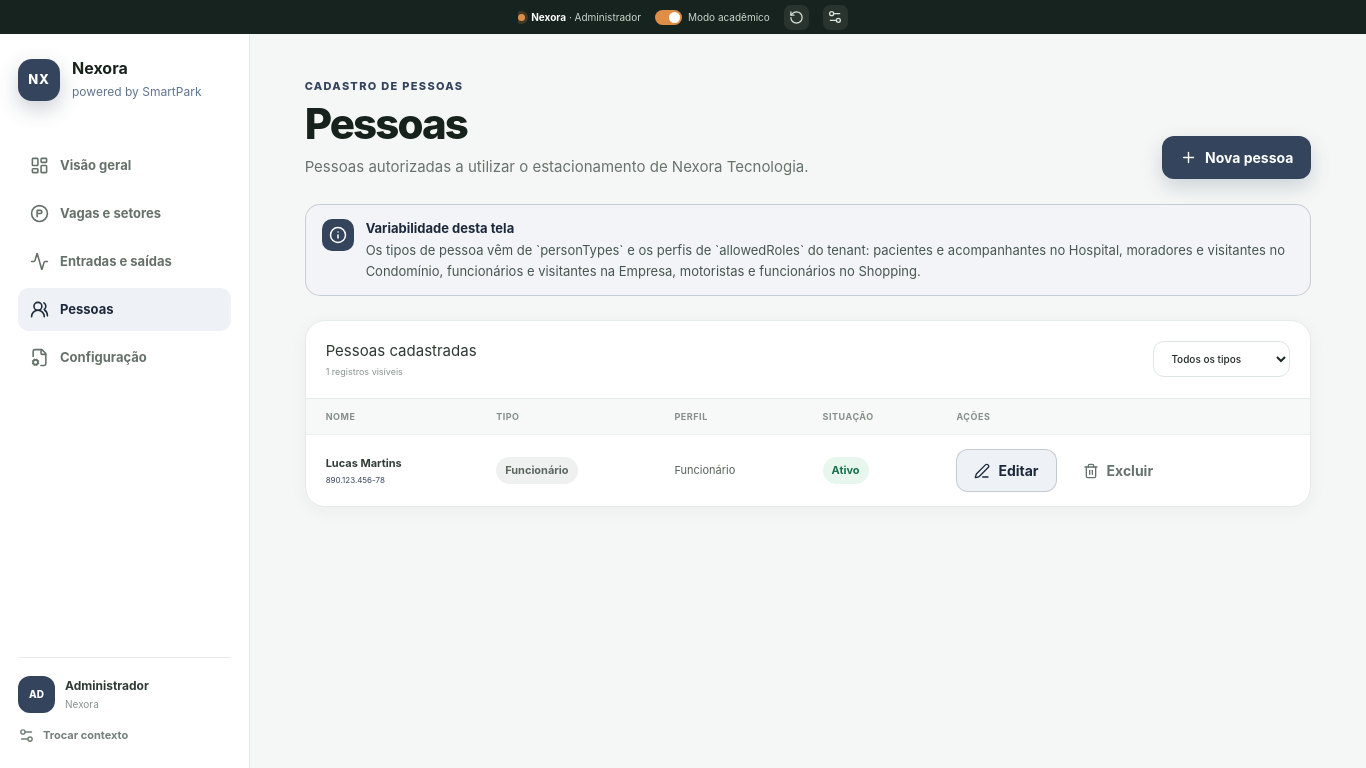
Test case: pessoas (usuários) › edita uma pessoa (inclusive a situação)
This screenshot has width=1366, height=768.
Click the button with aria-label "Editar Lucas Martins" at {"x": 1006, "y": 471}, box [956,449,1057,492]
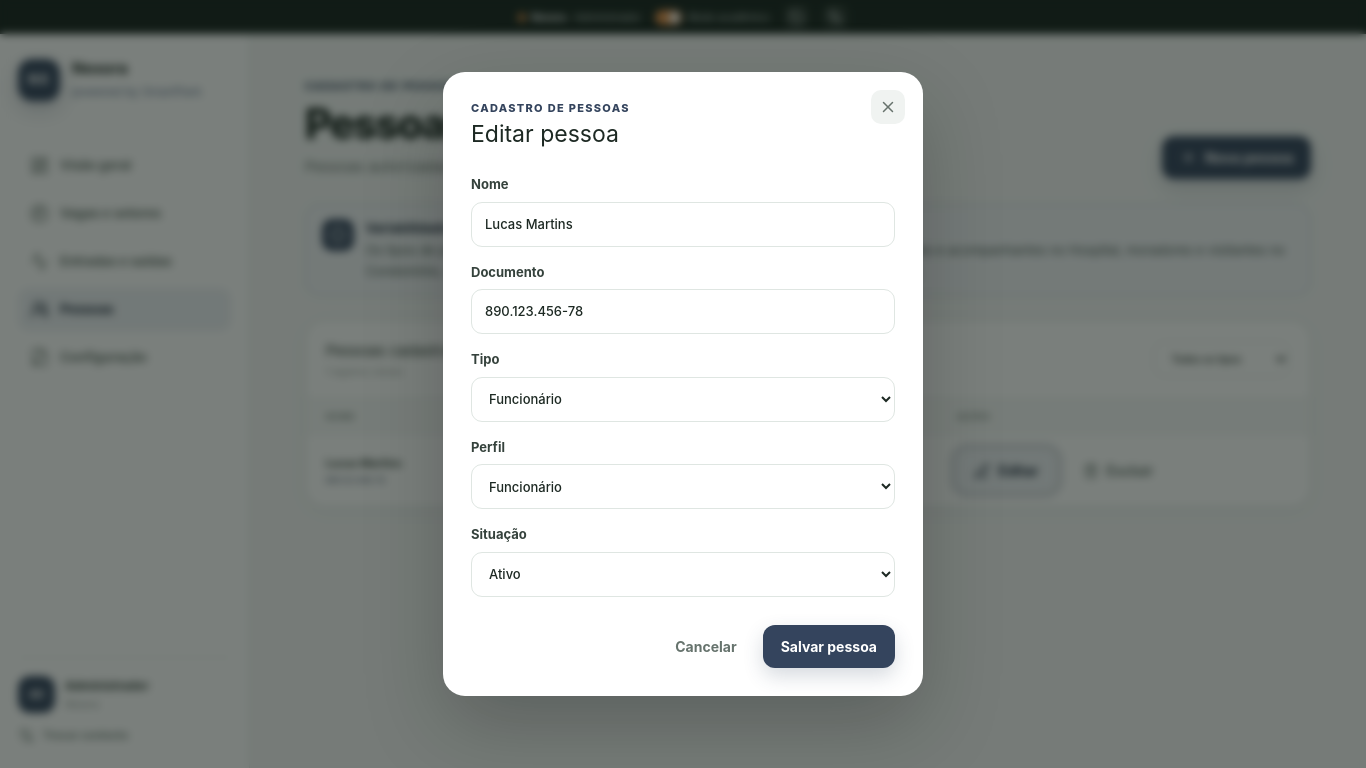
Select "Inativo" in the dropdown labelled "Situação" at {"x": 683, "y": 574}, box [471,552,895,597]
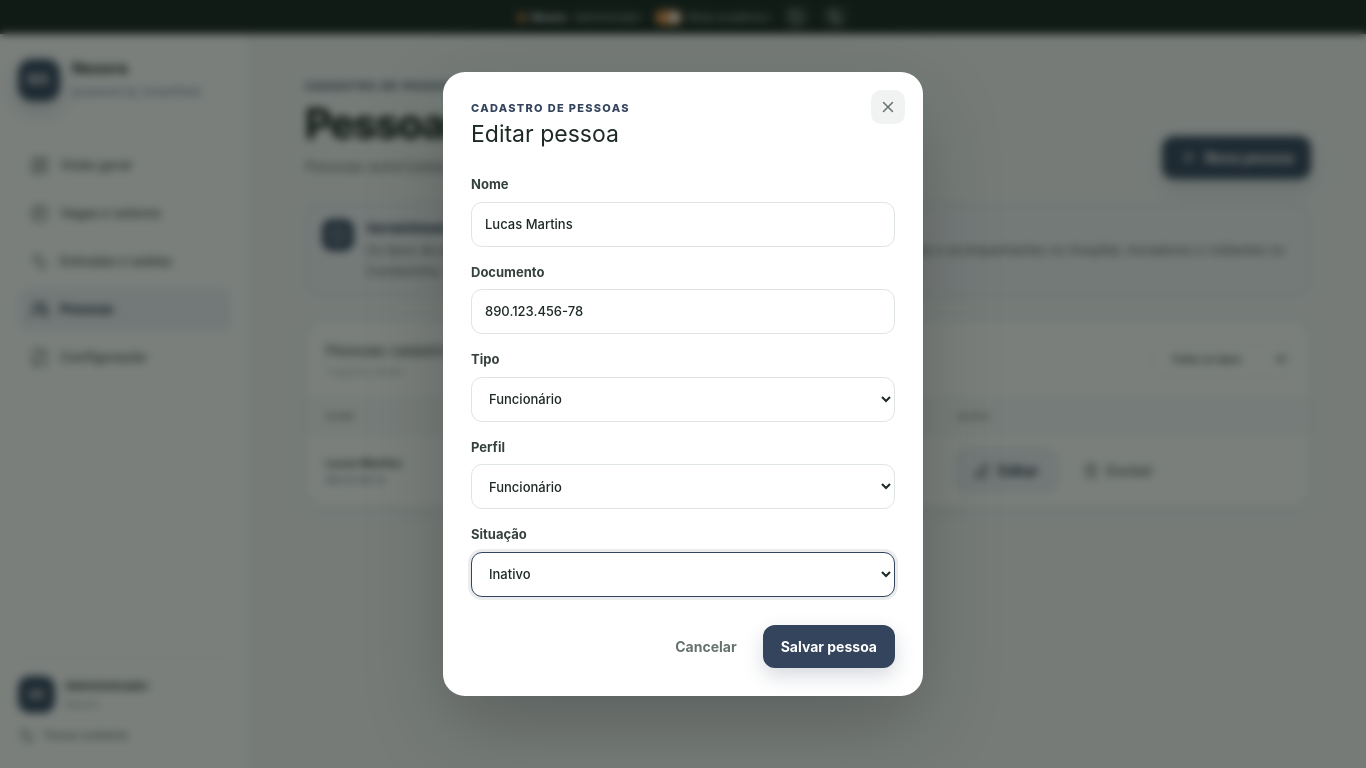
Click the button "Salvar pessoa" at {"x": 829, "y": 646}, box [763,625,895,668]
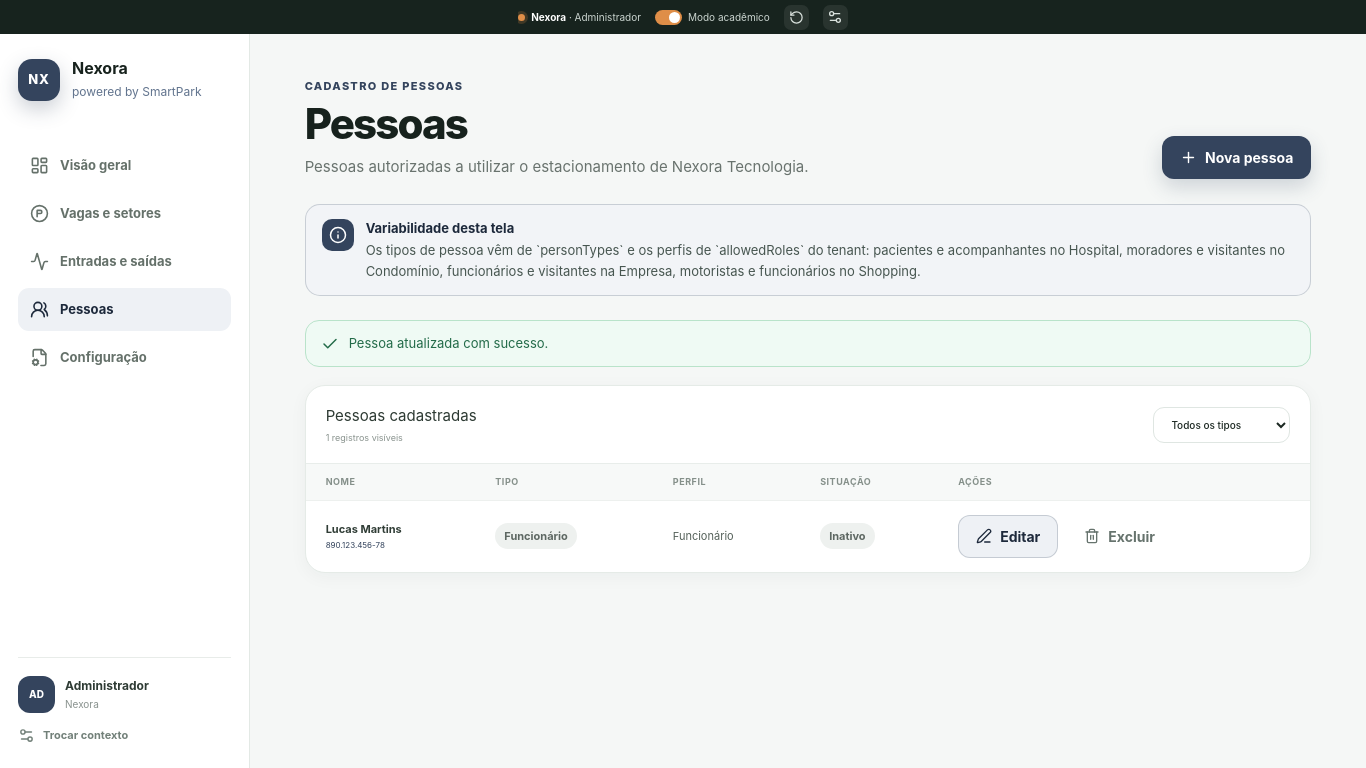
Check: the text "Pessoa atualizada com sucesso." is shown, box [349,334,548,353]
Check: the text "Inativo" is shown, box [820,523,875,549]
